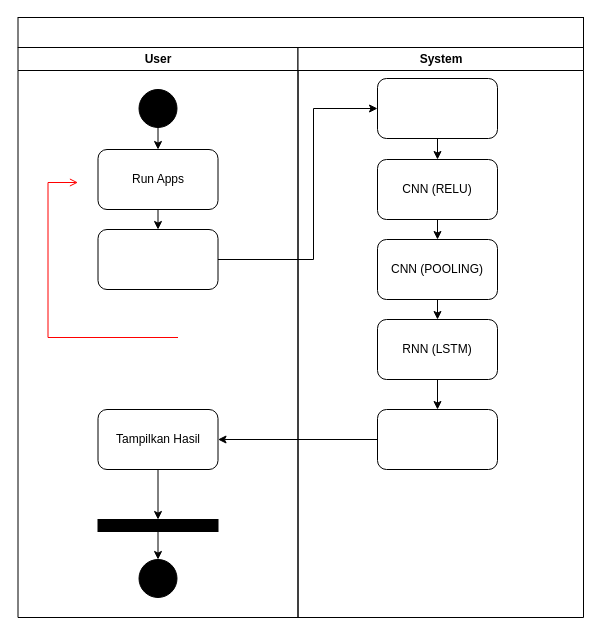
This 601x635 diagram has some shape labels left out. The centre of each missing label's shape, as x and y in pixels:
"CNN (Filter Layer)" goes at (437,108).
"CTC (Decode)" goes at (437,439).
"Deteksi Tulisan Tangan Dokter" goes at (300,32).
"Input Image" goes at (157,259).
